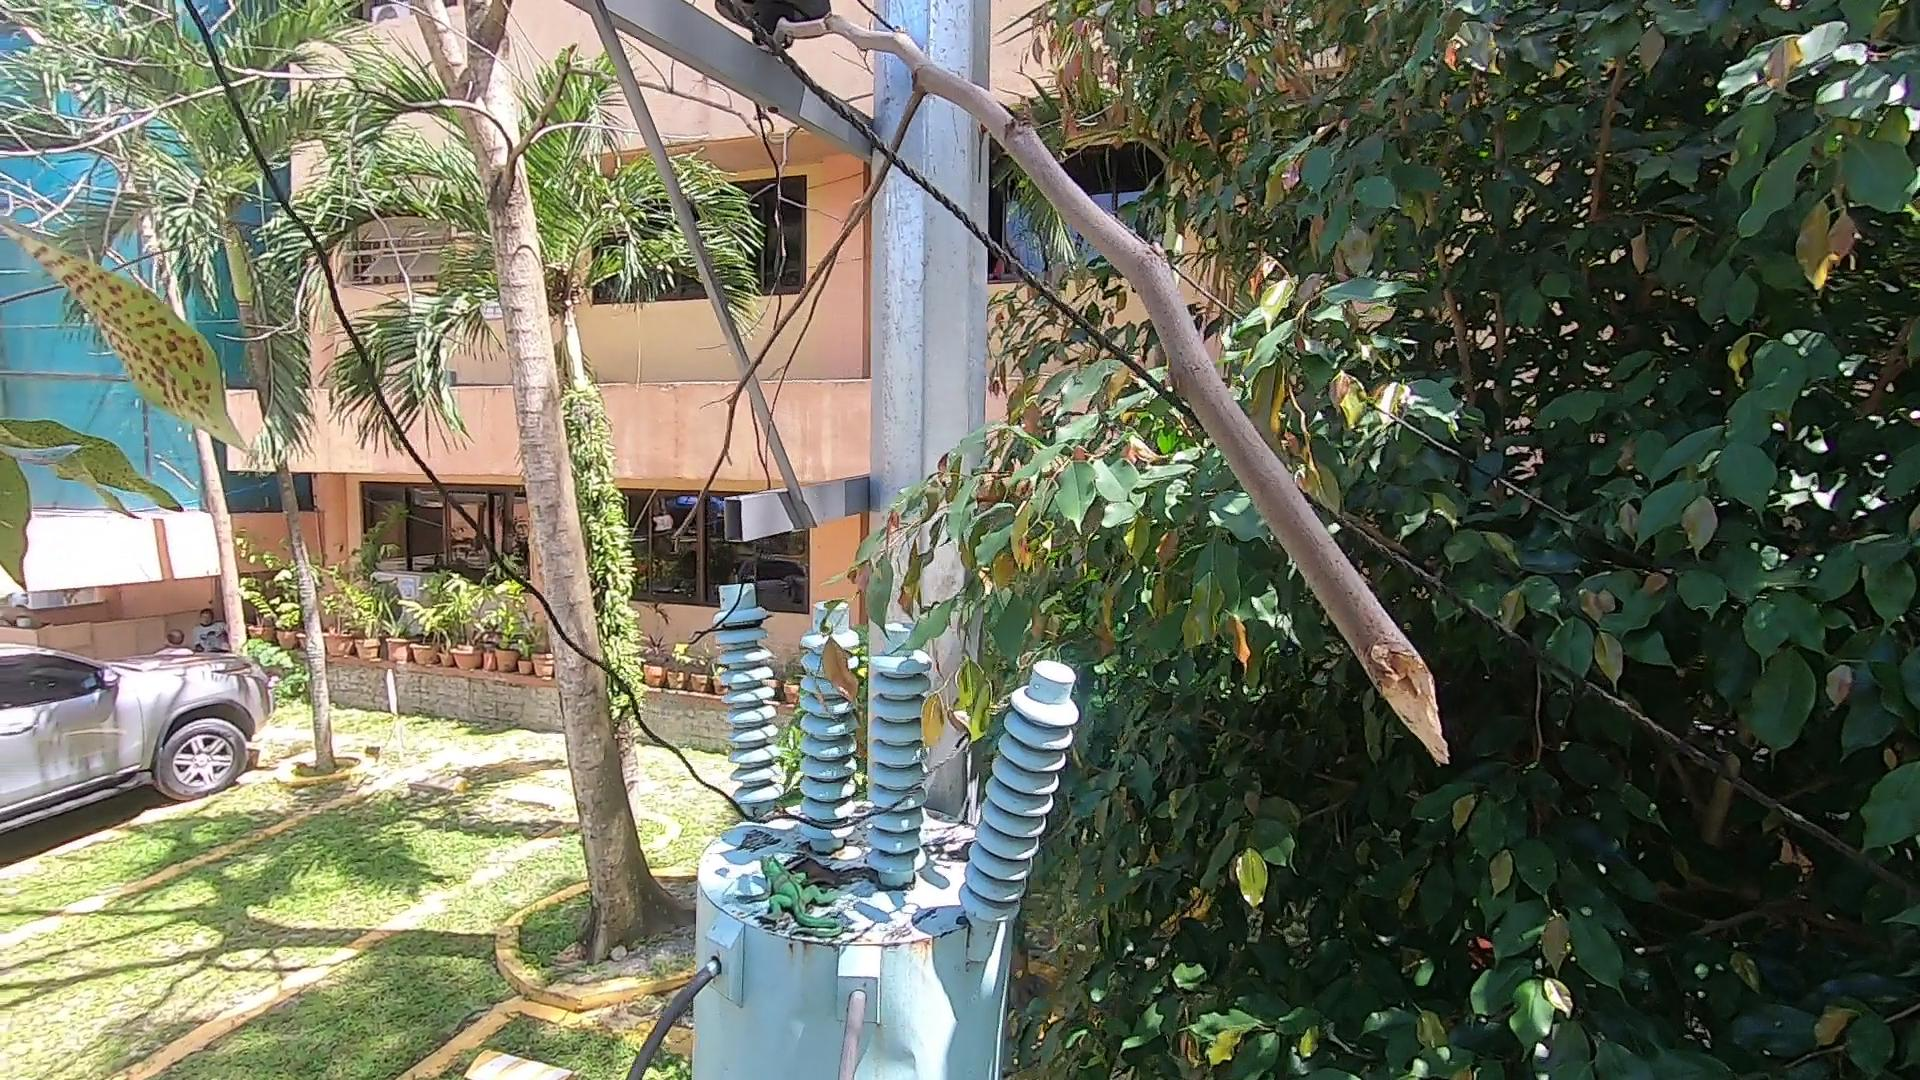branch with leaves: (777, 444, 1048, 746)
leaf: (787, 845, 884, 895), (918, 828, 978, 870), (749, 800, 816, 836)
tree branch: (724, 7, 1476, 800)
